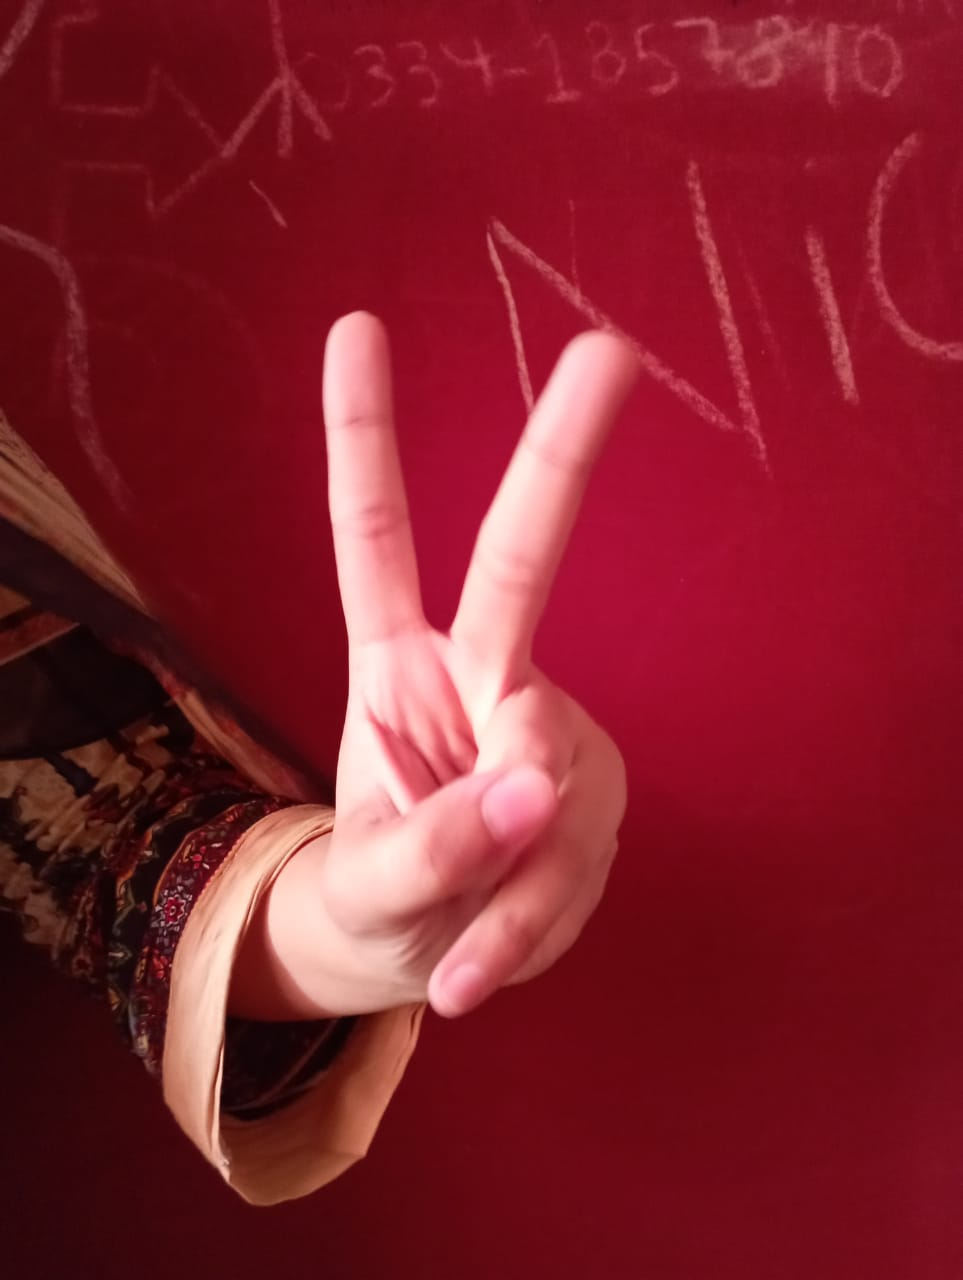Peace: (297, 292, 650, 1033)
